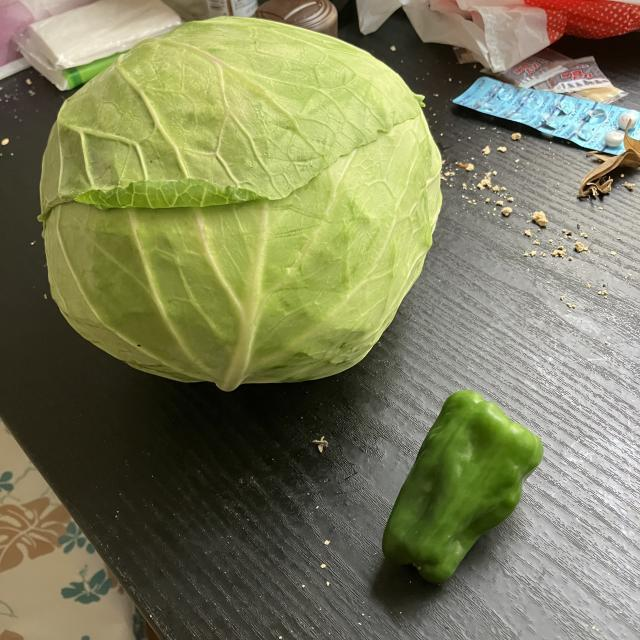cabbage: (35, 16, 444, 397)
